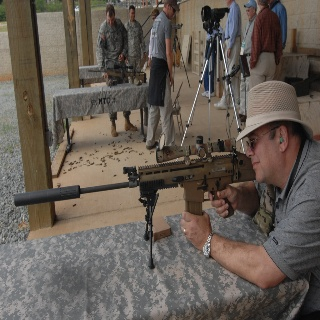rifle: (13, 136, 258, 270)
